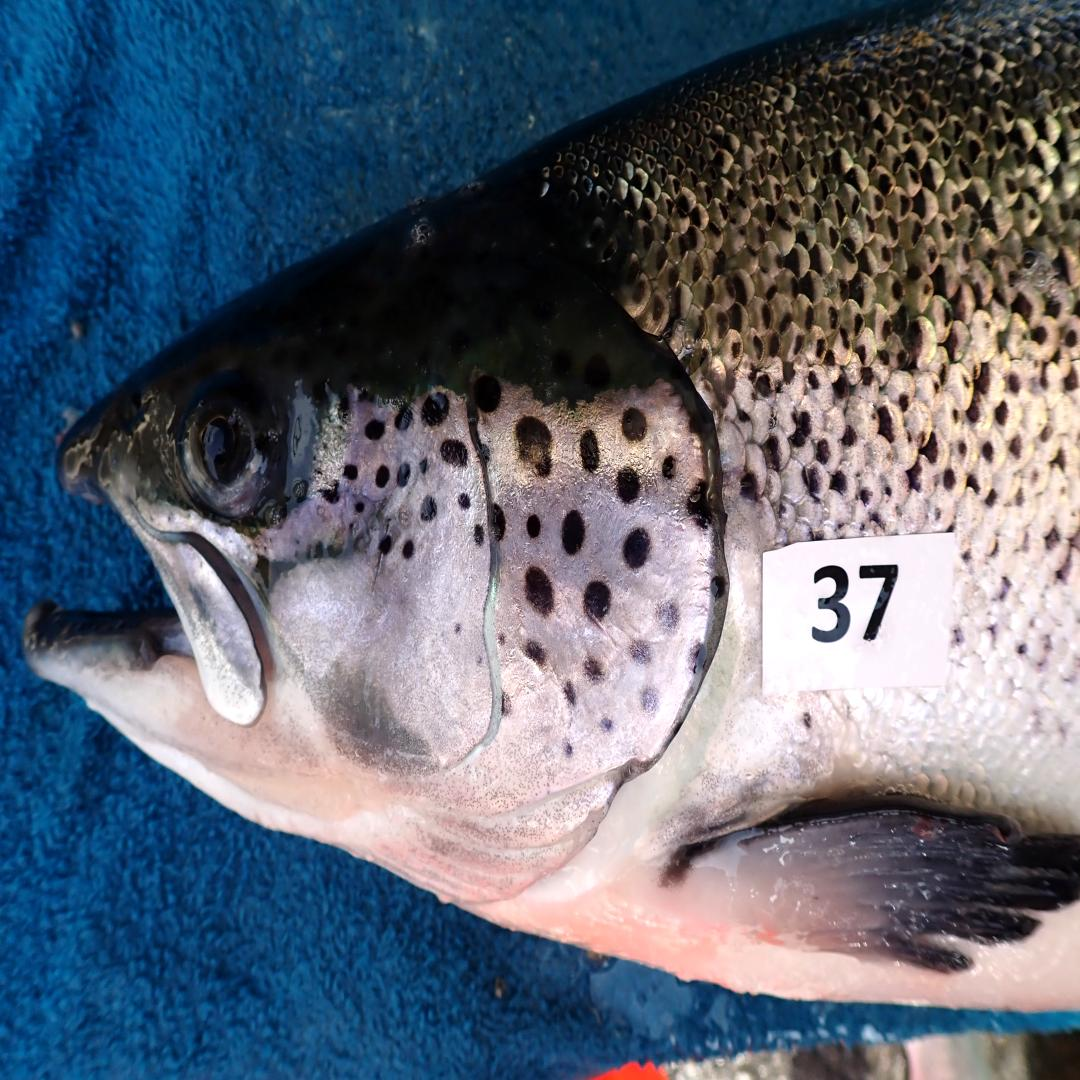roi: (260, 368, 728, 917)
